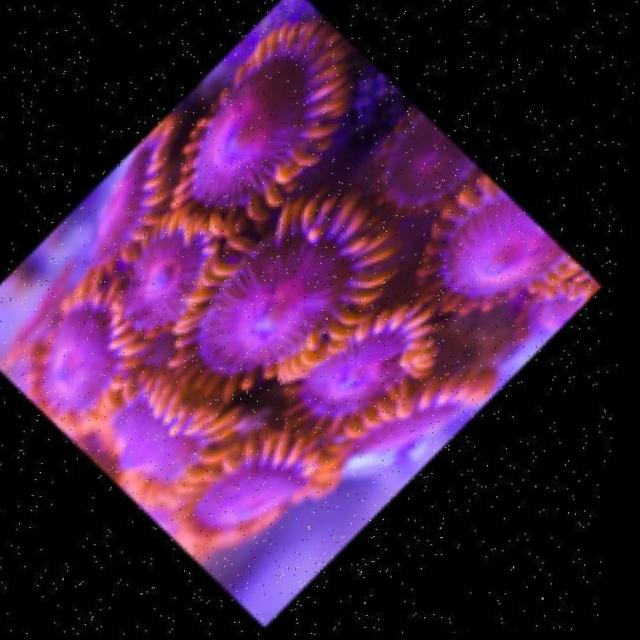Healthy Coral: (85, 161, 492, 412)
